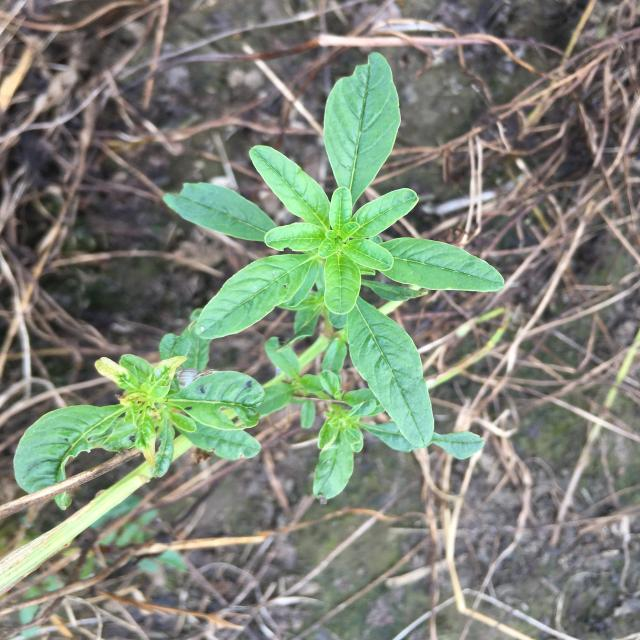Waterhemp: (13, 52, 505, 510)
